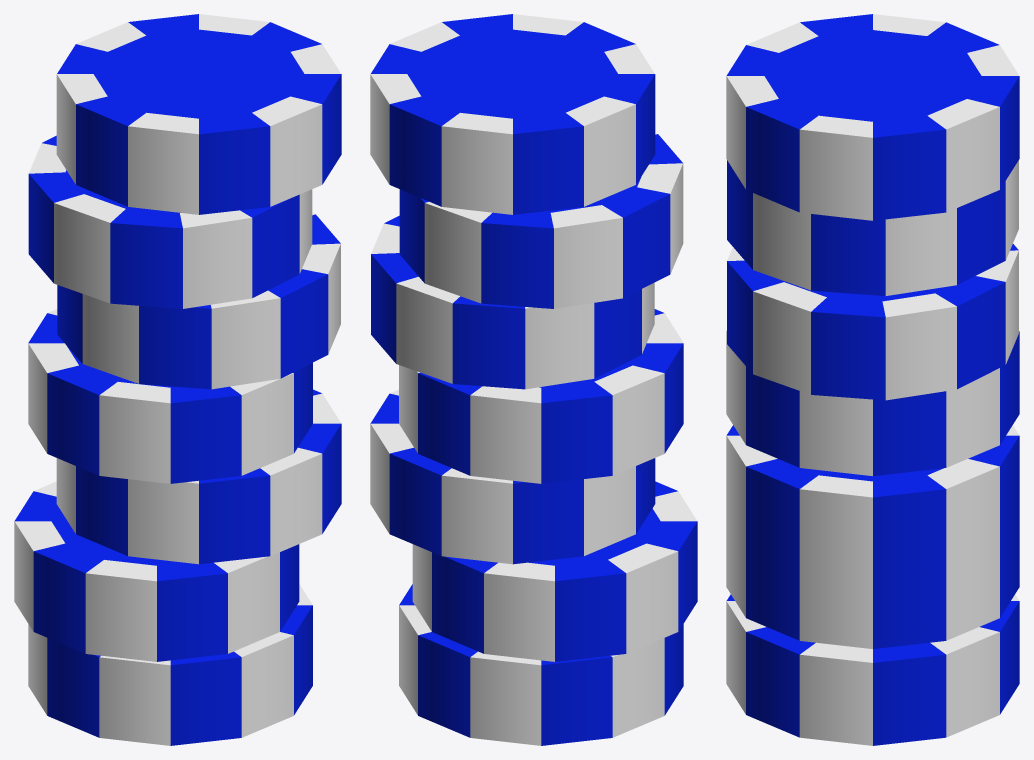
File: Poker Chip Blue Small Stack.FBX
3 renders of one model, left to right at view 1: azimuth 30°, elevation 25°; view 2: azimuth 150°, elevation 25°; view 3: azimuth 270°, elevation 25°, orthographic. The views are drawn at different scales.
Parts seen in each view (by area): view 1: Poker Chip Blue016, Poker Chip Blue011, Poker Chip Blue013, Poker Chip Blue015, Poker Chip Blue Small Stack, Poker Chip Blue012, Poker Chip Blue014; view 2: Poker Chip Blue016, Poker Chip Blue011, Poker Chip Blue013, Poker Chip Blue015, Poker Chip Blue Small Stack, Poker Chip Blue012, Poker Chip Blue014; view 3: Poker Chip Blue016, Poker Chip Blue012, Poker Chip Blue014, Poker Chip Blue Small Stack, Poker Chip Blue013, Poker Chip Blue015, Poker Chip Blue011.
Part boxes in pixels (x1,y1,x2,y2): Poker Chip Blue016: (56,14,341,214); Poker Chip Blue011: (14,481,299,661); Poker Chip Blue013: (28,309,312,483); Poker Chip Blue015: (28,135,312,308); Poker Chip Blue Small Stack: (28,584,312,745); Poker Chip Blue012: (56,389,341,564); Poker Chip Blue014: (57,213,340,389); Poker Chip Blue016: (370,14,655,214); Poker Chip Blue011: (412,481,697,661); Poker Chip Blue013: (399,309,683,483); Poker Chip Blue015: (399,133,683,308); Poker Chip Blue Small Stack: (399,584,683,745); Poker Chip Blue012: (370,389,655,564); Poker Chip Blue014: (371,215,654,389); Poker Chip Blue016: (726,14,1019,220); Poker Chip Blue012: (726,425,1019,580); Poker Chip Blue014: (727,244,1018,400); Poker Chip Blue Small Stack: (726,594,1019,745); Poker Chip Blue013: (726,331,1019,476); Poker Chip Blue015: (727,160,1018,296); Poker Chip Blue011: (726,519,1019,648).
Bounding box in the file's own units: 0.0187 × 0.0375 × 0.016.
